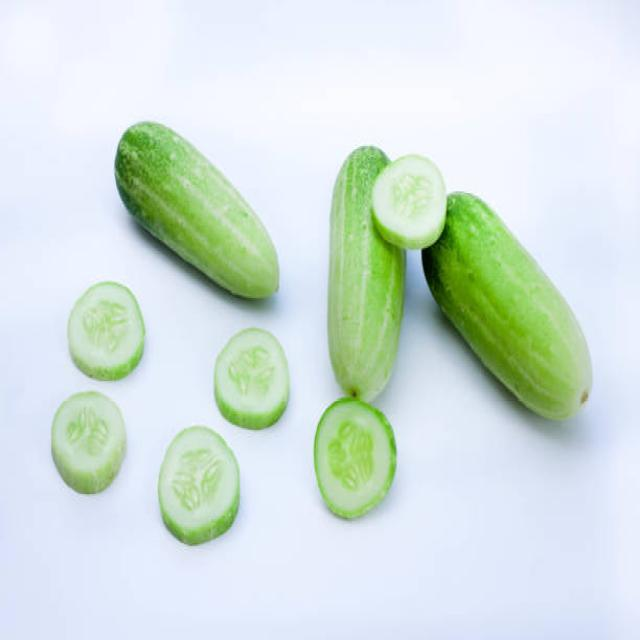cucumber: (420, 187, 594, 423), (113, 117, 280, 301), (328, 145, 405, 408)
